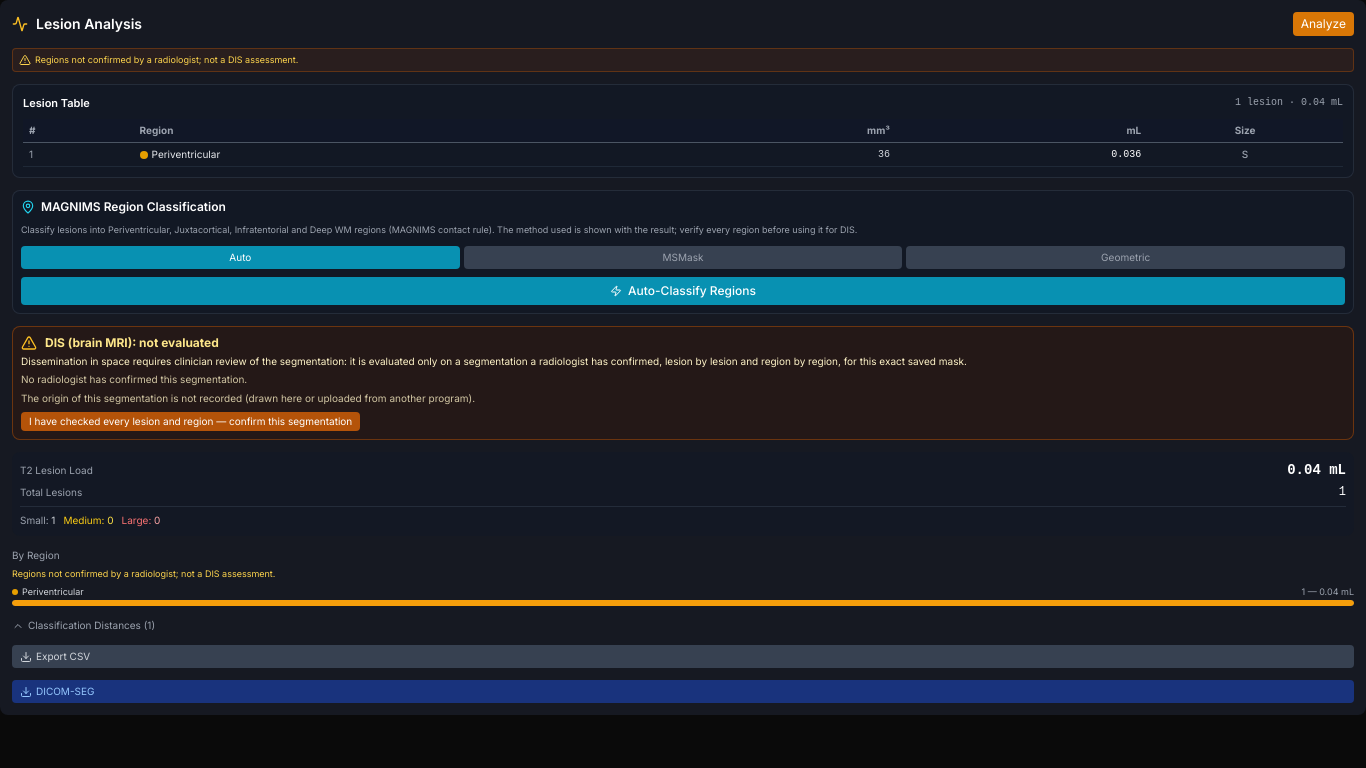
Test: R2: each value present is drawn with the label the server stored for it › rc071 release final r2 refused when one colour differs from the stored label
Click the button "confirm this segmentation".
click(191, 422)  # box x1=21 y1=412 x2=360 y2=431
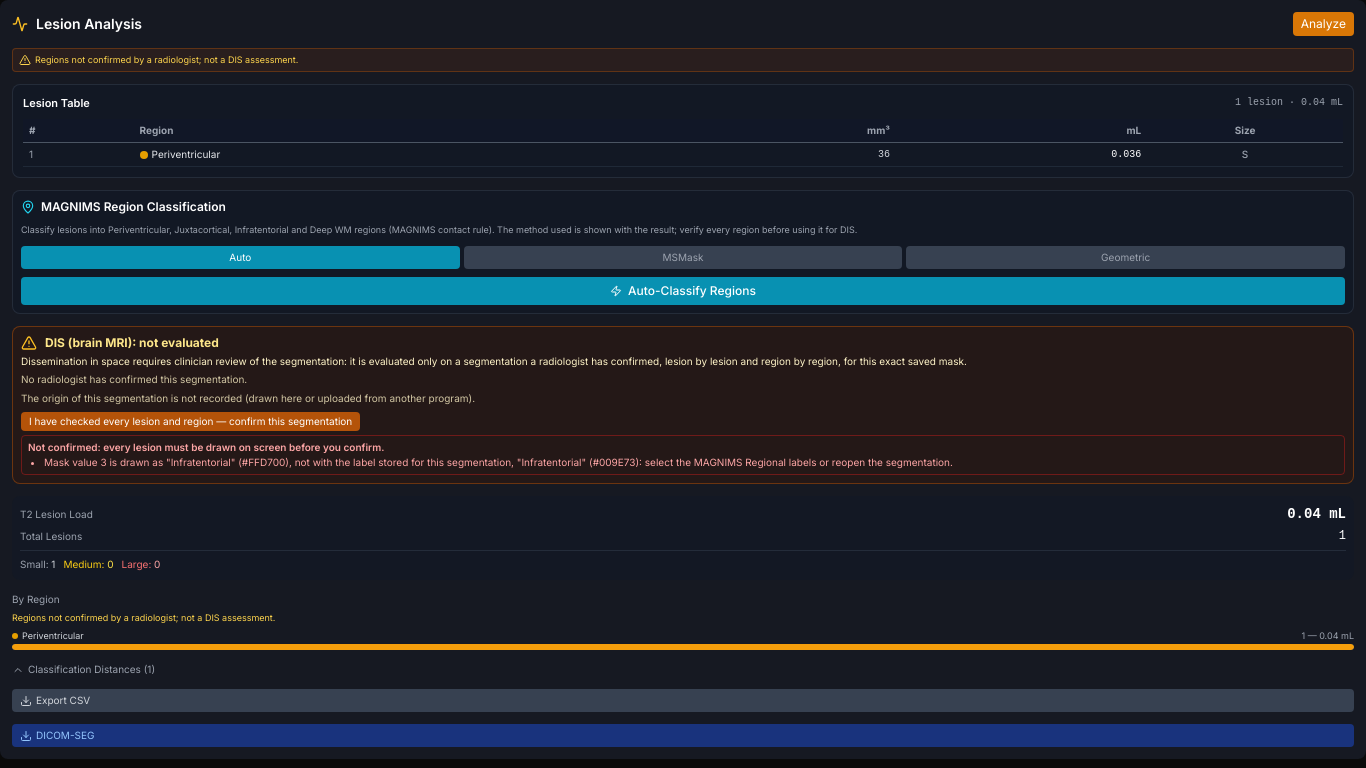
expect the message with test id "dis-confirm-refused" shows "value 3 is drawn as \"Infratentorial\"": met, box x1=44 y1=456 x2=953 y2=468
